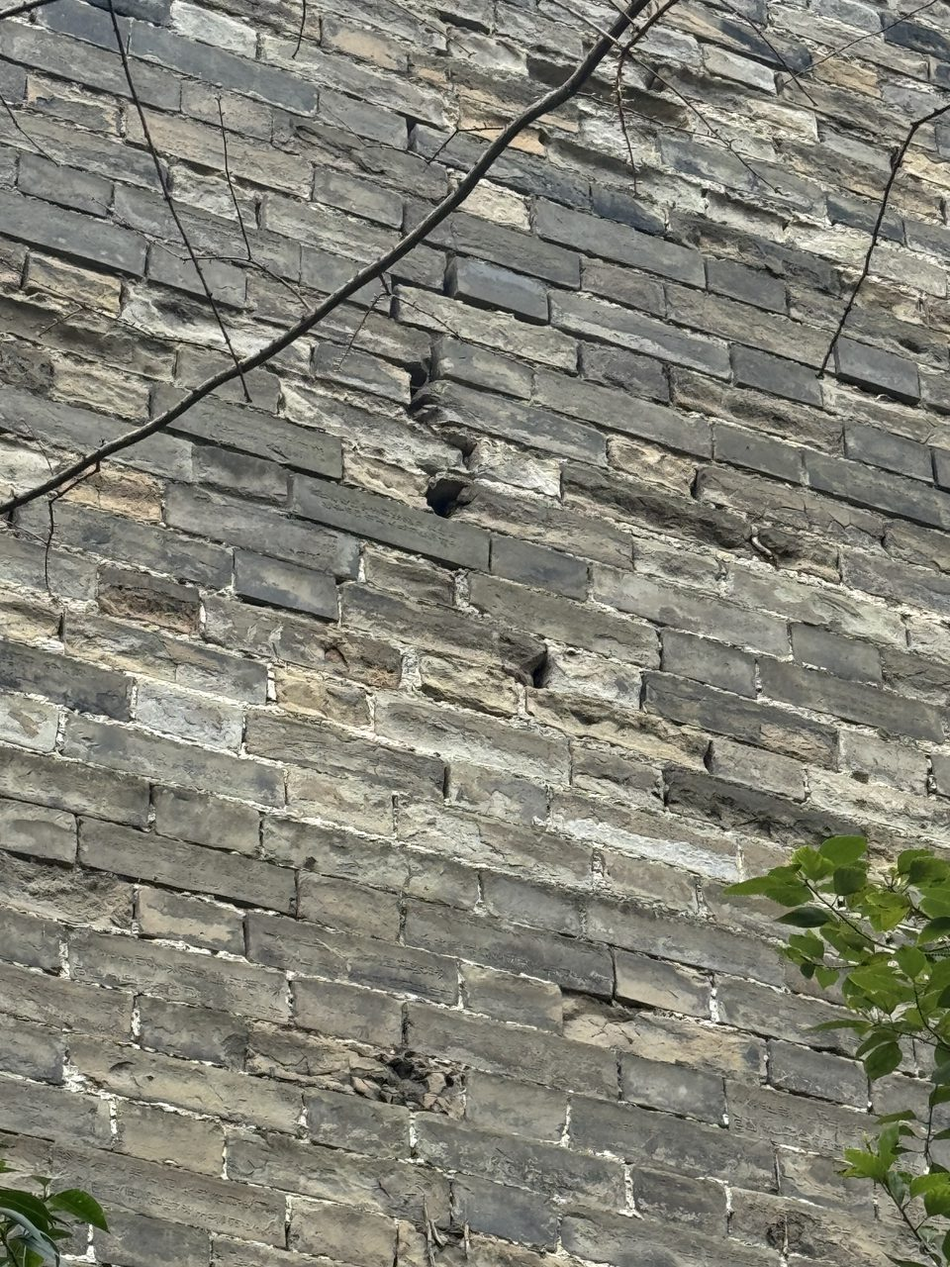crack: (396, 308, 493, 547)
